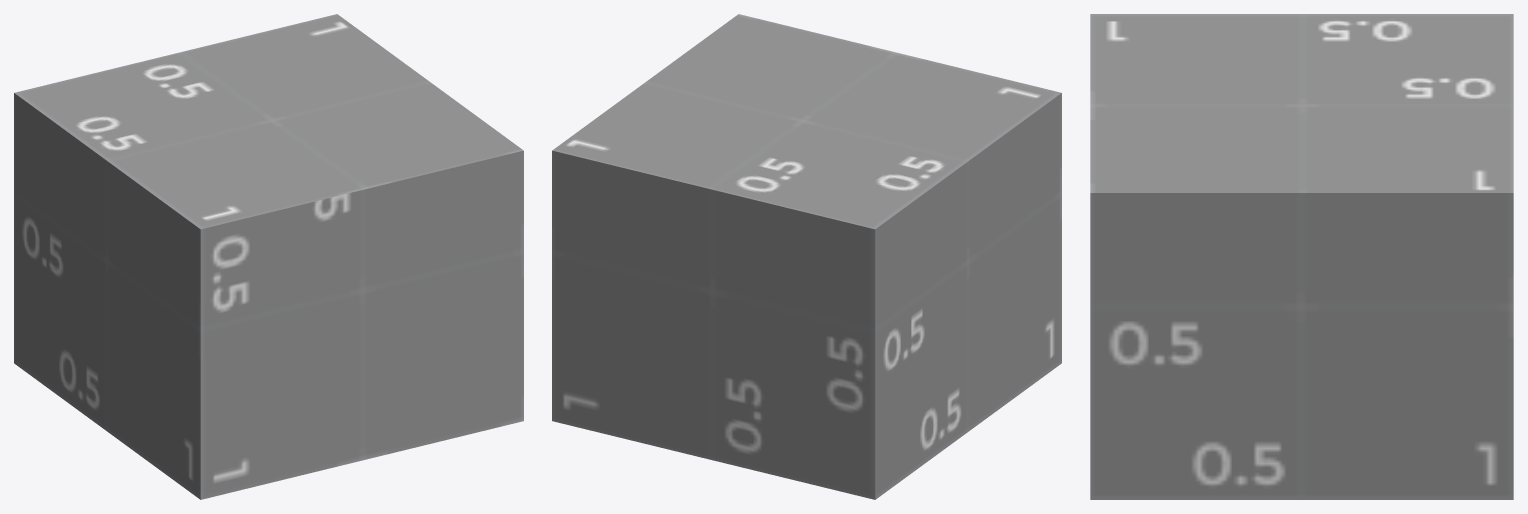
3 renders of one model, left to right at view 1: azimuth 30°, elevation 25°; view 2: azimuth 150°, elevation 25°; view 3: azimuth 270°, elevation 25°, orthographic. The views are drawn at different scales.
Visible parts, largest first — view 1: Cube_1_8; view 2: Cube_1_8; view 3: Cube_1_8.
Boxes of the visible parts, x1,y1,x2,y2 form: Cube_1_8: [14, 14, 523, 499]; Cube_1_8: [552, 14, 1061, 499]; Cube_1_8: [1090, 14, 1513, 499].
Size of the model in its own units: 1 by 0.8 by 1.
